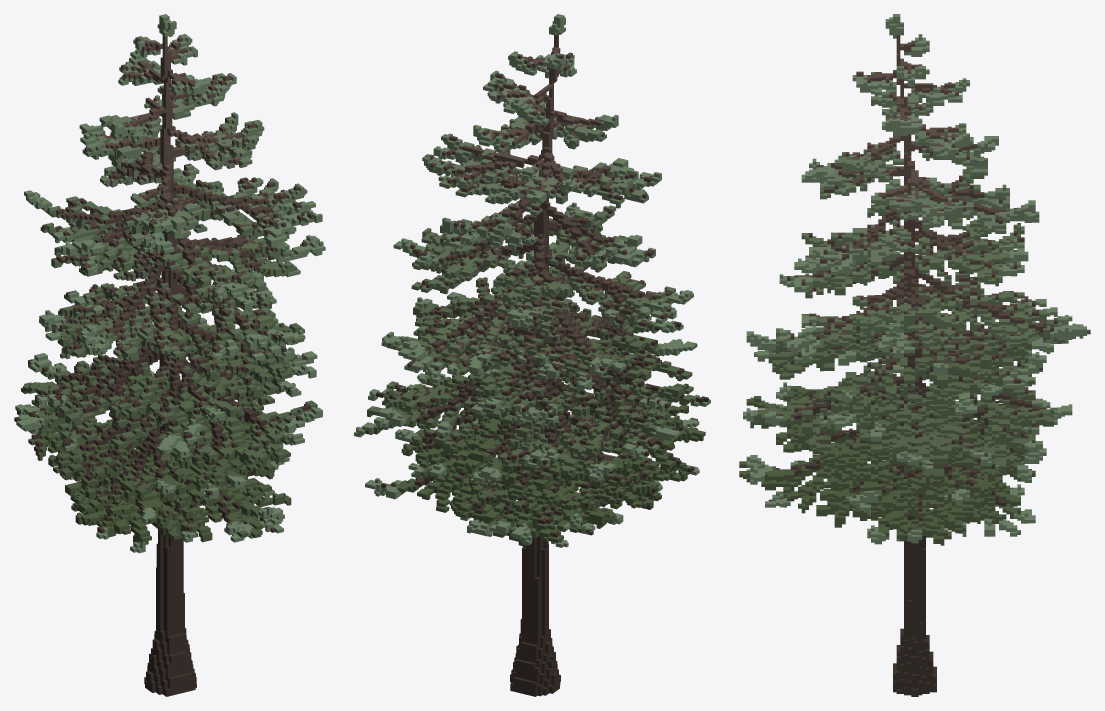
The model's file is 1_voxtree.fbx.
3 views of the same model, side by side, from view 1: azimuth 30°, elevation 25°; view 2: azimuth 150°, elevation 25°; view 3: azimuth 270°, elevation 25° (orthographic). The views are drawn at different scales.
Visible parts, largest first — view 1: blender_trunk.003; view 2: blender_trunk.003; view 3: blender_trunk.003.
Boxes of the visible parts, left/top/right/bottom form: blender_trunk.003: left=14, top=14, right=325, bottom=696; blender_trunk.003: left=354, top=14, right=710, bottom=696; blender_trunk.003: left=739, top=14, right=1090, bottom=696.
Bounding box in the file's own units: 900 × 2000 × 960.
Materials: 1 (1 with a texture image).
